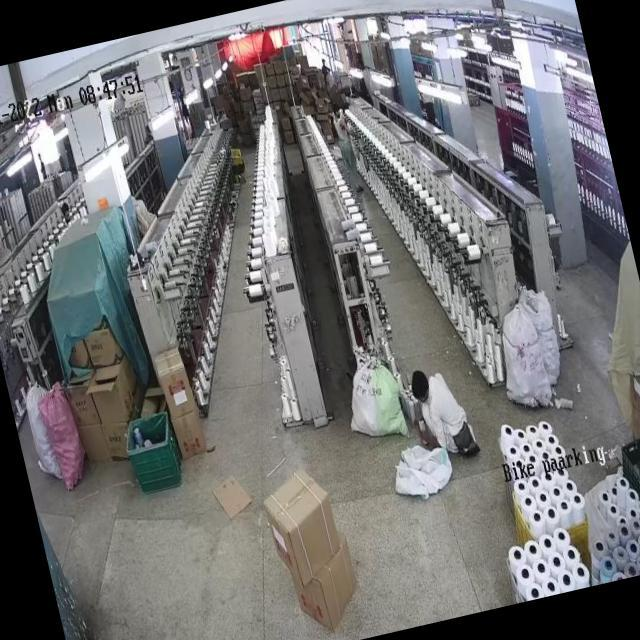person: (411, 364, 482, 474), (328, 99, 367, 198)
